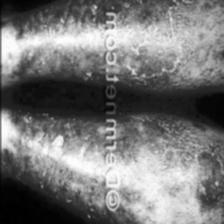Non-Cancerous Skin Condition: (126, 111, 224, 224), (0, 113, 97, 211), (0, 0, 104, 90), (124, 0, 224, 93)
